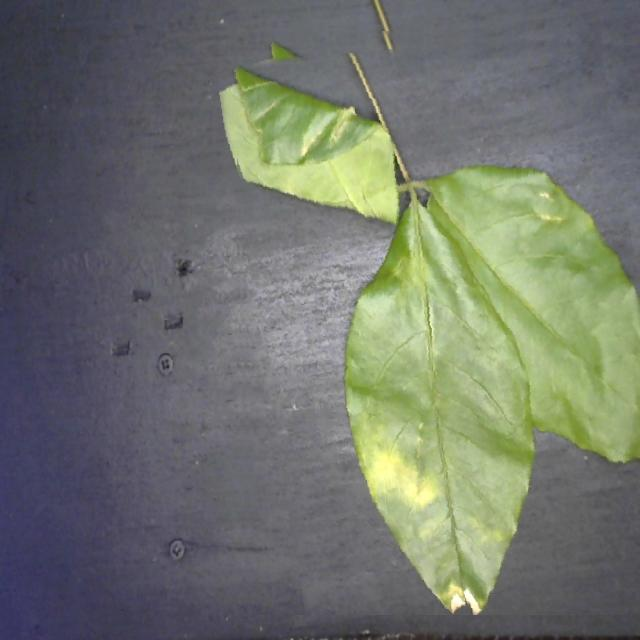biodegradable: (234, 22, 640, 615)
